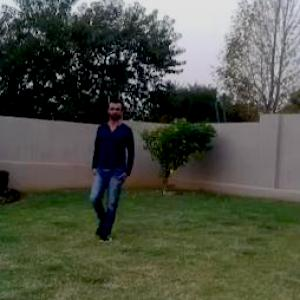follow: (91, 100, 130, 234)
